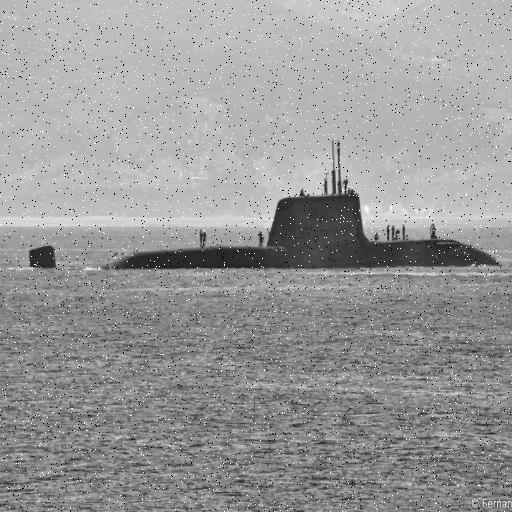submarine: (23, 138, 504, 269)
